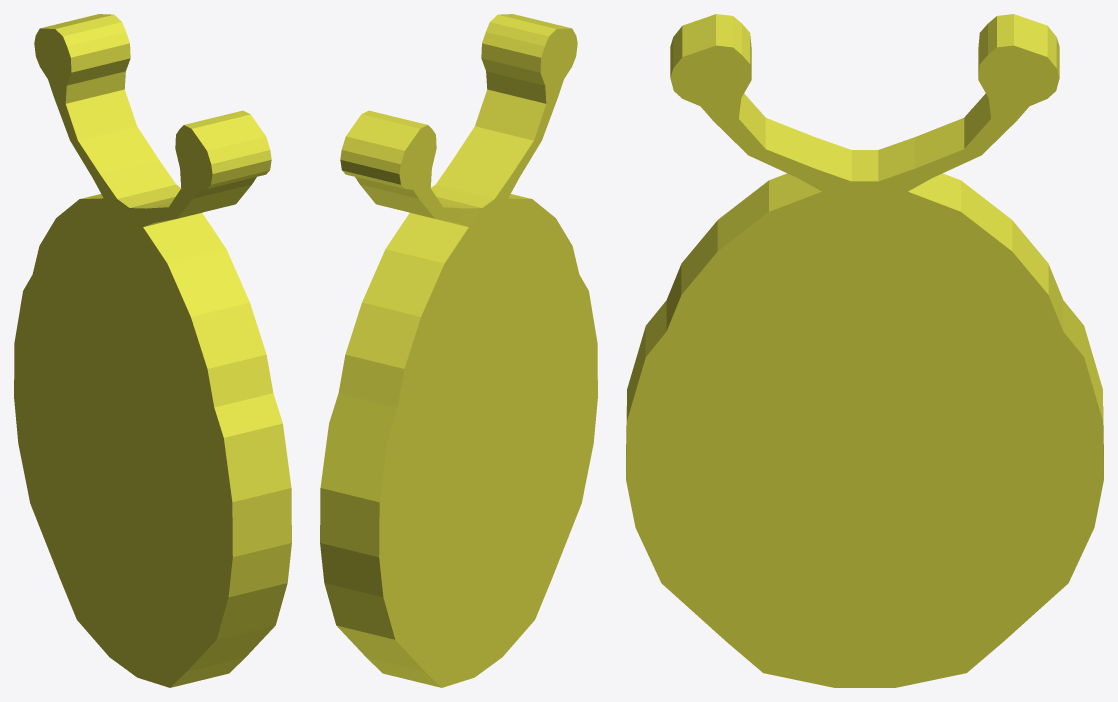
The model's file is Coin.fbx.
The picture shows the model from 3 angles, left to right: view 1: azimuth 30°, elevation 25°; view 2: azimuth 150°, elevation 25°; view 3: azimuth 270°, elevation 25°; orthographic projection. The views are drawn at different scales.
Visible parts, largest first — view 1: pCube3; view 2: pCube3; view 3: pCube3.
Boxes of the visible parts, box(x1,y1,x2,y2) form: pCube3: box(14, 14, 291, 687); pCube3: box(320, 14, 597, 687); pCube3: box(626, 14, 1103, 687).
Size of the model in its own units: 0.1927 by 1.83 by 1.24.
